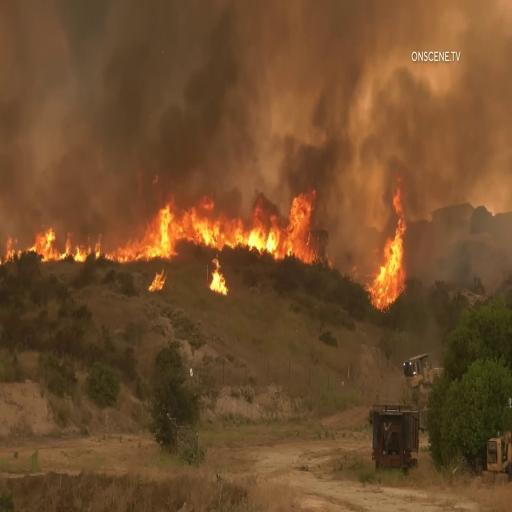fire: (172, 191, 316, 263), (362, 184, 409, 313), (119, 194, 175, 274)
smoke: (138, 11, 406, 152)
